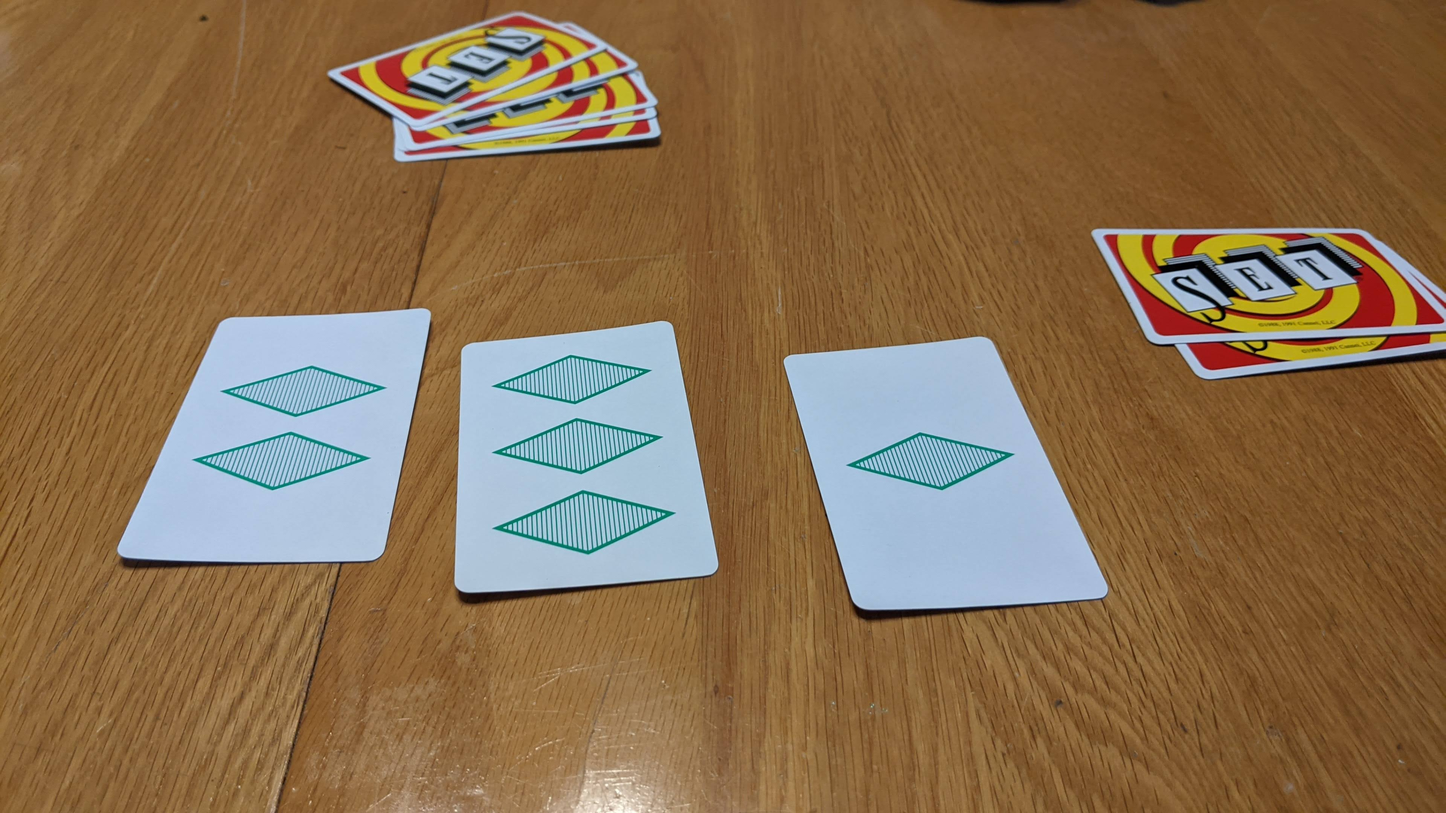card: (782, 336, 1110, 612), (118, 306, 432, 562), (453, 321, 718, 595)
